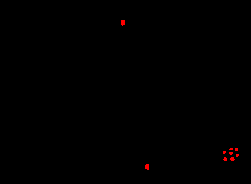Target: (121, 20, 125, 26), (145, 164, 149, 170), (230, 157, 235, 161), (223, 157, 227, 161), (229, 152, 233, 155), (235, 148, 238, 151), (223, 151, 226, 154), (236, 154, 239, 157), (229, 148, 233, 150)
